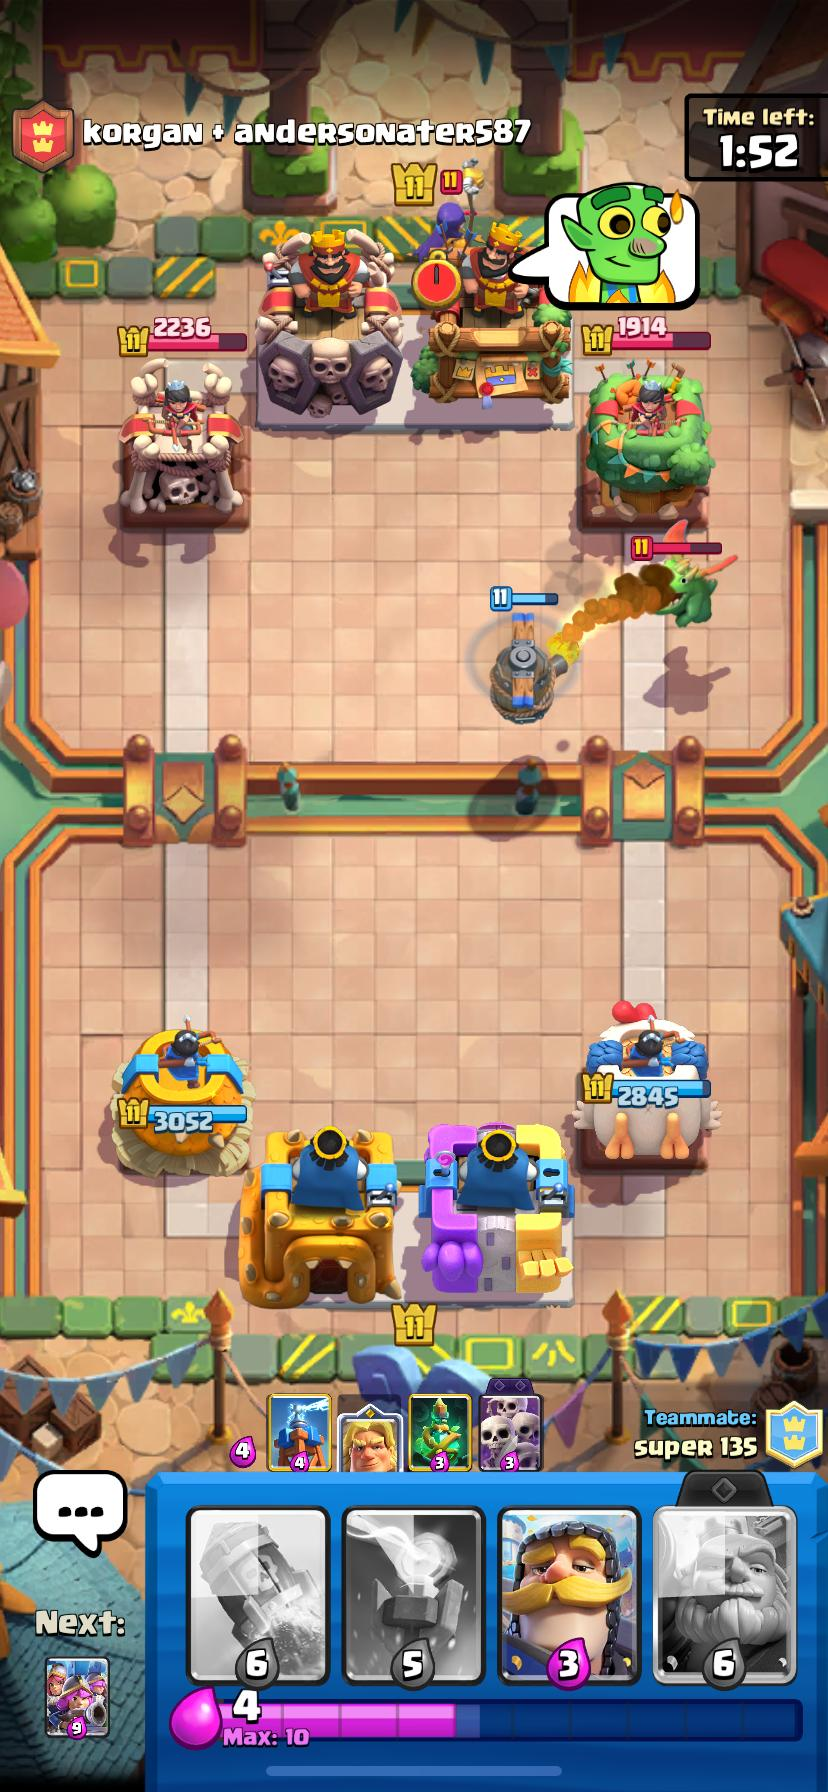EBabyDrag: (641, 555, 737, 627)
EKingTower: (412, 223, 570, 402), (256, 230, 402, 422)
EWitch: (418, 201, 468, 263)
EnemyPrincessTower: (582, 363, 714, 522), (120, 360, 242, 521)
OFlyingMachine: (490, 605, 568, 724)
OwnKingTower: (240, 1125, 402, 1306), (419, 1123, 573, 1300)
OwnPrincessTower: (576, 1001, 711, 1167), (111, 1021, 253, 1175)
